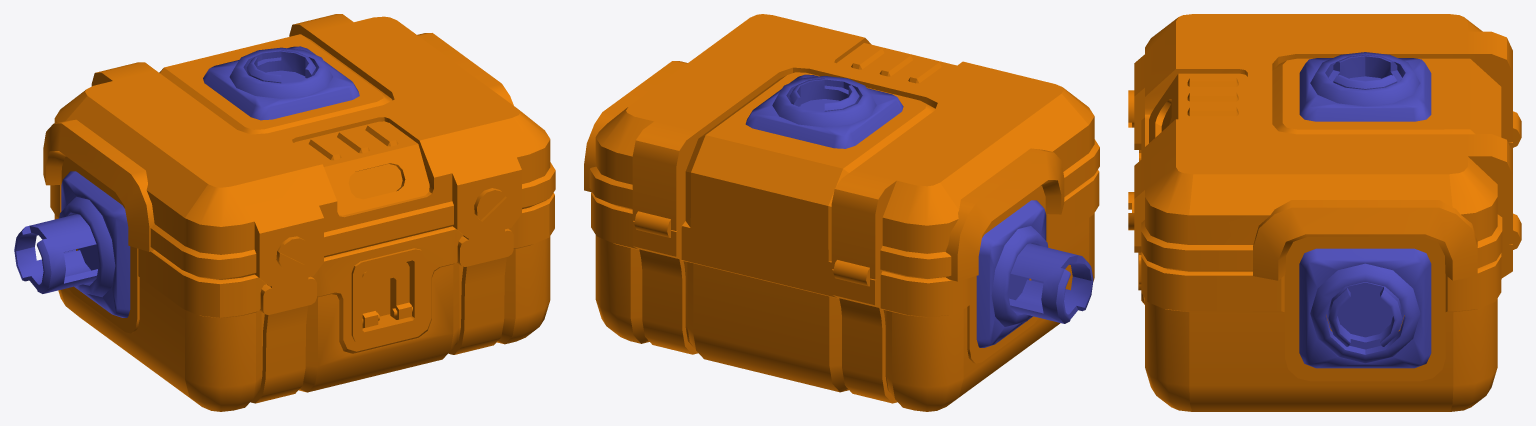
The model's file is obj_interactive_chest_pose1.fbx.
3 renders of one model, left to right at view 1: azimuth 30°, elevation 25°; view 2: azimuth 150°, elevation 25°; view 3: azimuth 270°, elevation 25°, orthographic. The views are drawn at different scales.
Parts seen in each view (by area): view 1: obj_interactive_chest_pose1; view 2: obj_interactive_chest_pose1; view 3: obj_interactive_chest_pose1.
Boxes of the visible parts, x1,y1,x2,y2 form: obj_interactive_chest_pose1: (14,14,555,411); obj_interactive_chest_pose1: (584,14,1099,411); obj_interactive_chest_pose1: (1128,14,1521,411).
Bounding box in the file's own units: 6.35 × 3.32 × 4.46.
